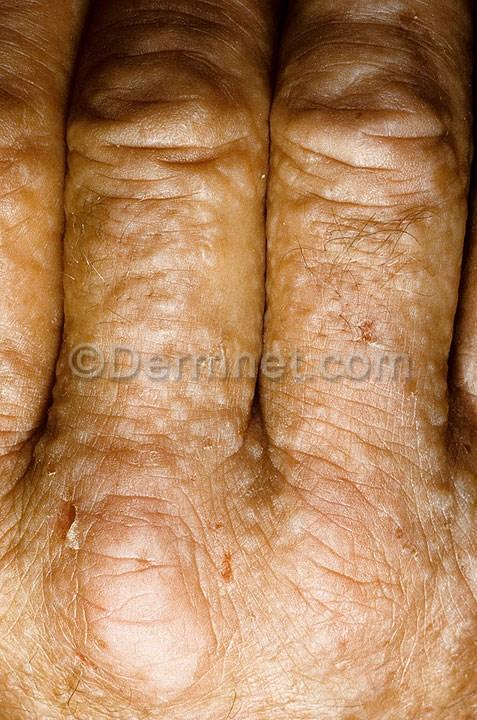Eczema: (41, 473, 260, 720), (282, 192, 450, 496), (38, 224, 233, 479), (290, 519, 477, 720), (50, 0, 228, 189), (307, 0, 458, 180)
